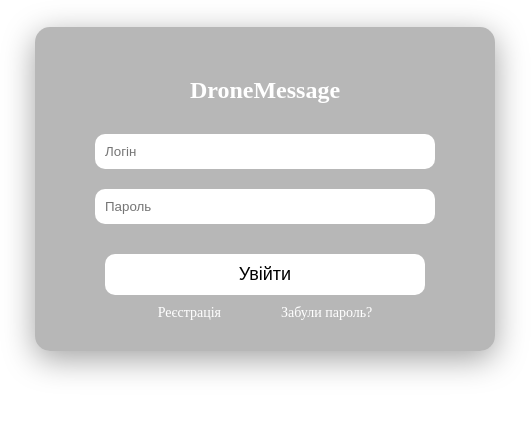
Test: Компонент LoginBox › показує повідомлення про помилку при невдалому вході
Step 1. Type "wrongUser" into the field with placeholder "Логін" → (265, 151), box x1=95 y1=134 x2=435 y2=169
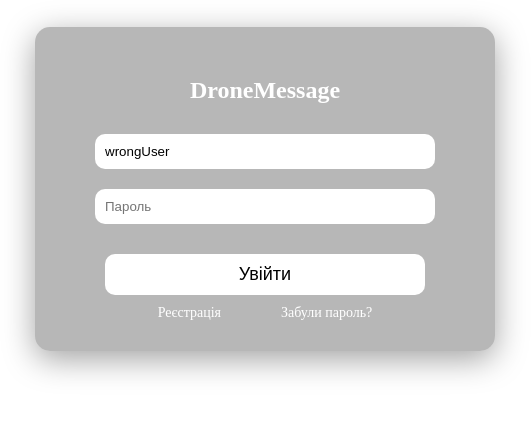
Step 2. Type "wrongPassword" into the password field with placeholder "Пароль" → (265, 206), box x1=95 y1=189 x2=435 y2=224
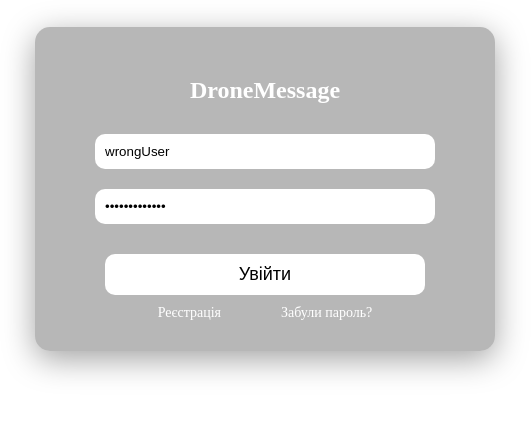
Step 3. Click the button "Увійти" → click(265, 274), box x1=105 y1=254 x2=425 y2=295
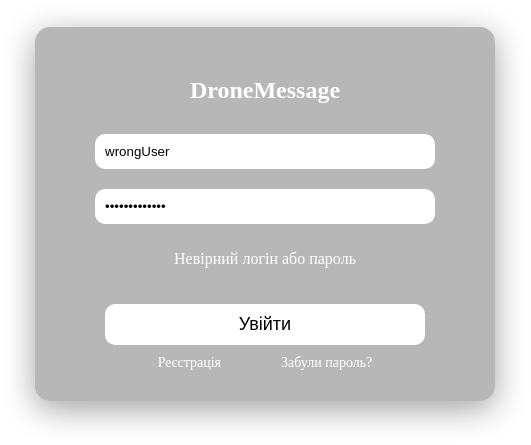
Expected: the text "Невірний логін або пароль" is shown, x1=174 y1=250 x2=356 y2=267
